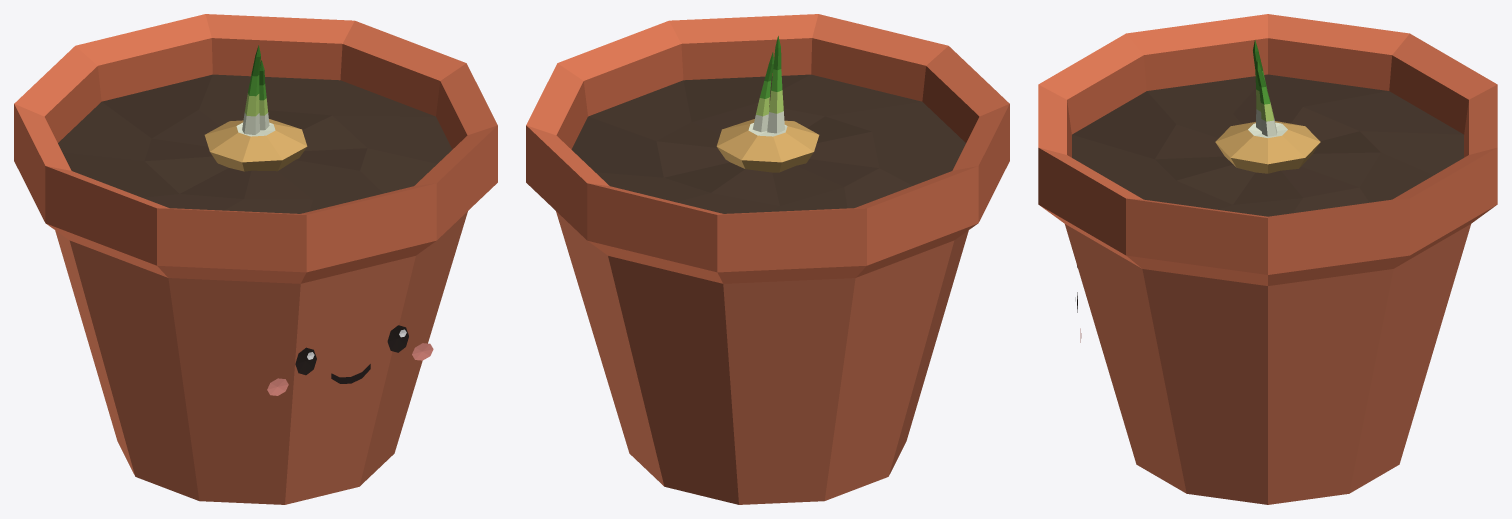
Rendered from onion_1.glb.
The picture shows the model from 3 angles, left to right: view 1: azimuth 30°, elevation 25°; view 2: azimuth 150°, elevation 25°; view 3: azimuth 270°, elevation 25°; orthographic projection.
Visible parts, largest first — view 1: Onion_Stage1_Sprout; view 2: Onion_Stage1_Sprout; view 3: Onion_Stage1_Sprout.
Part boxes in pixels (left/top/right/bottom): Onion_Stage1_Sprout: left=14, top=14, right=497, bottom=504; Onion_Stage1_Sprout: left=526, top=14, right=1009, bottom=504; Onion_Stage1_Sprout: left=1038, top=14, right=1497, bottom=504.
Bounding box in the file's own units: 1.92 × 1.78 × 1.83.
